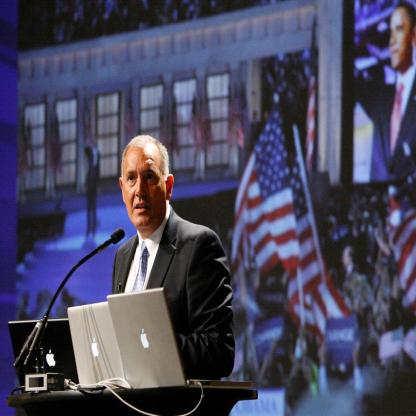board: (107, 286, 254, 386), (8, 316, 79, 395), (68, 299, 126, 388)
